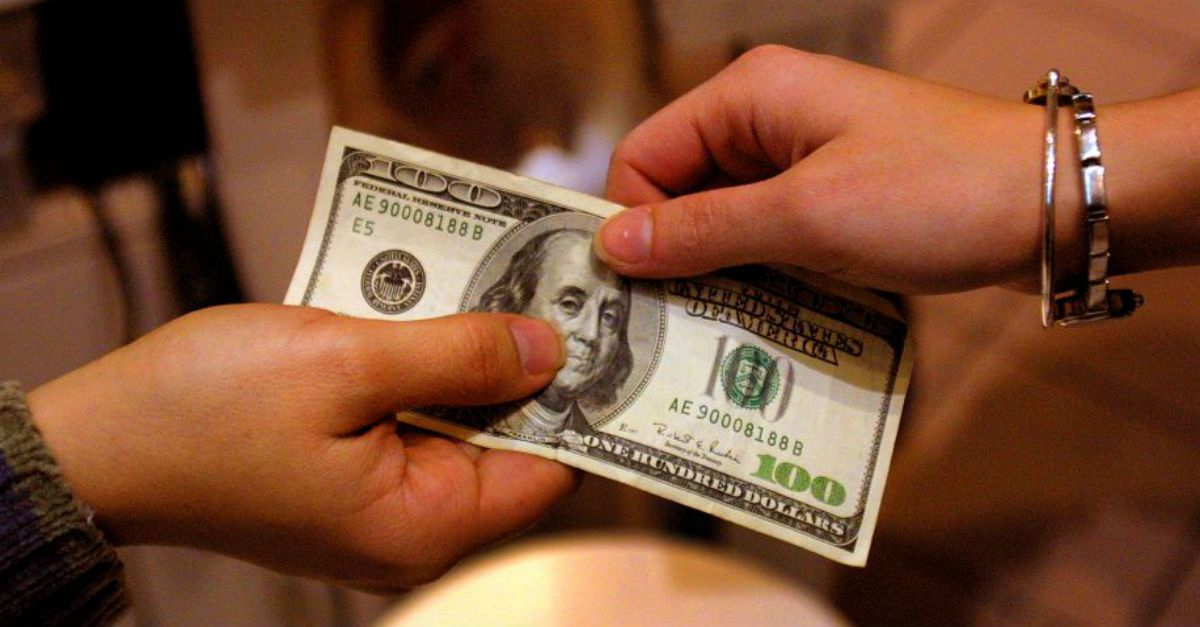billete: (279, 124, 920, 570)
